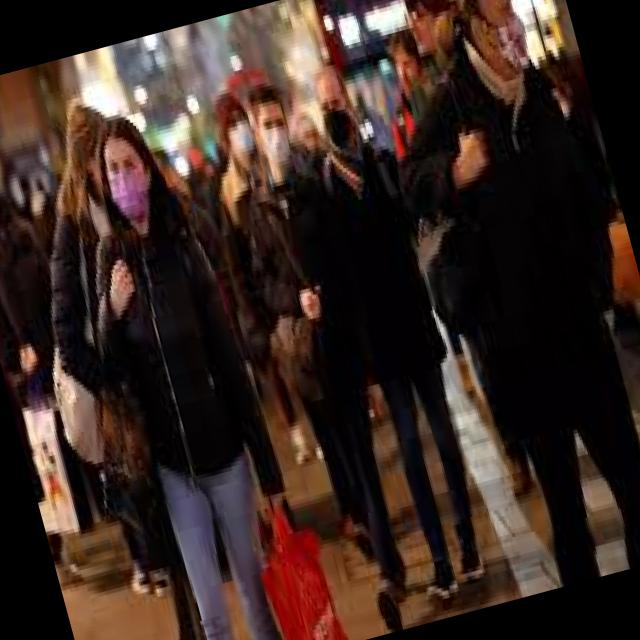Jacket: (388, 32, 640, 448), (76, 201, 296, 524), (217, 160, 386, 433), (309, 149, 458, 395)
